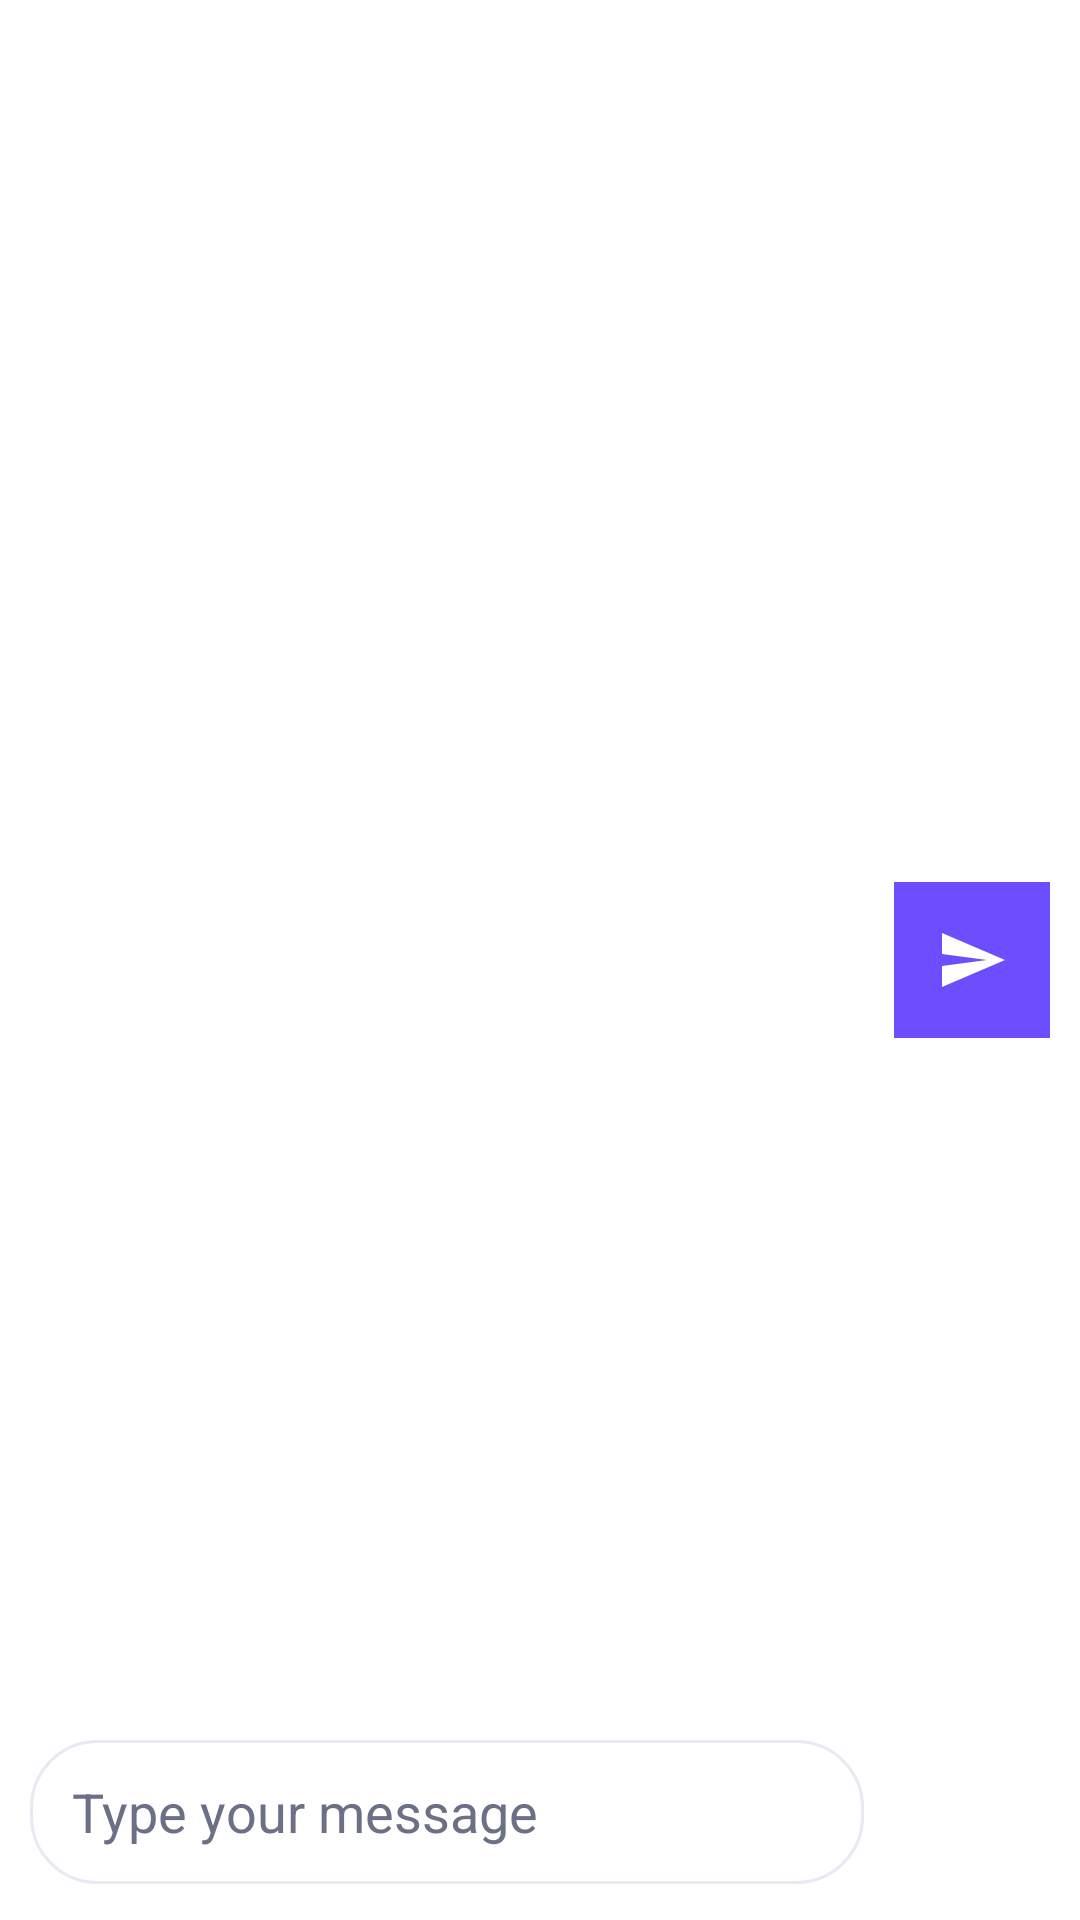

Icon click points for this 1080px x 1920px phone screenshot, format point (x, y):
Send: point (972, 960)
